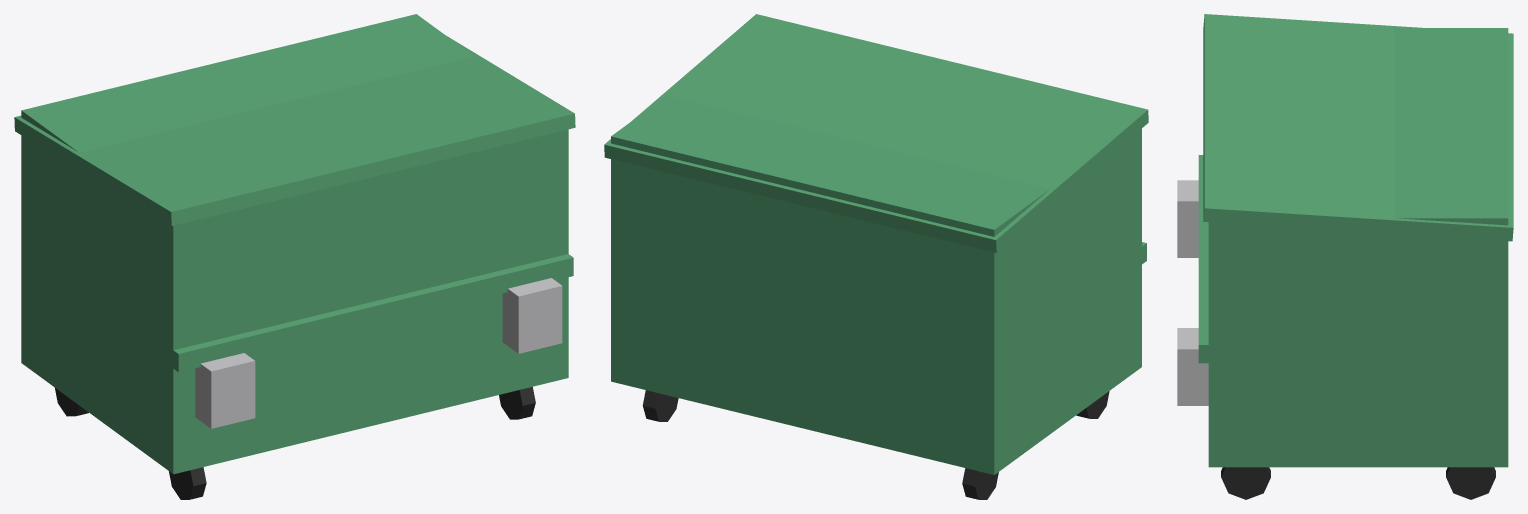
Rendered from dumpster.glb.
3 views of the same model, side by side, from view 1: azimuth 30°, elevation 25°; view 2: azimuth 150°, elevation 25°; view 3: azimuth 270°, elevation 25° (orthographic). The views are drawn at different scales.
Parts seen in each view (by area): view 1: dumpster; view 2: dumpster; view 3: dumpster.
Boxes of the visible parts, x1,y1,x2,y2 form: dumpster: [14, 14, 575, 499]; dumpster: [604, 14, 1148, 499]; dumpster: [1177, 14, 1513, 499].
Bounding box in the file's own units: 1.84 × 1.35 × 1.35.
